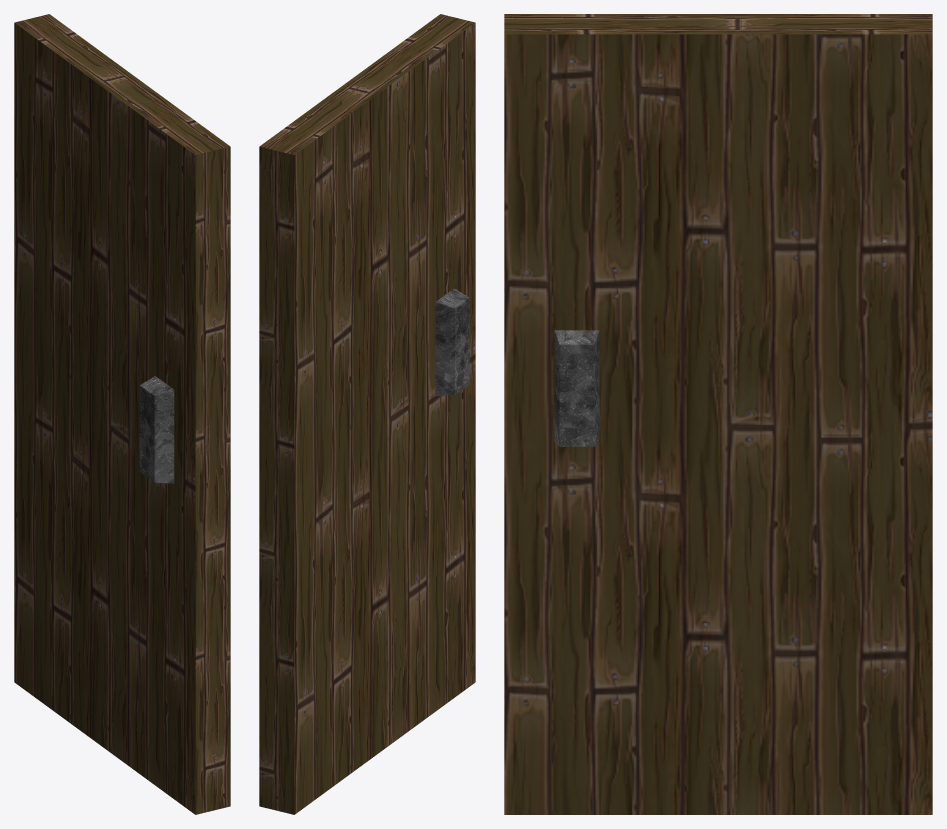
Rendered from door.fbx.
3 renders of one model, left to right at view 1: azimuth 30°, elevation 25°; view 2: azimuth 150°, elevation 25°; view 3: azimuth 270°, elevation 25°, orthographic. The views are drawn at different scales.
Parts seen in each view (by area): view 1: door; view 2: door; view 3: door.
Part boxes in pixels (x1,y1,x2,y2): door: (14, 14, 230, 814); door: (259, 14, 475, 814); door: (504, 14, 932, 814).
Size of the model in its own units: 20 by 180 by 89.4.
